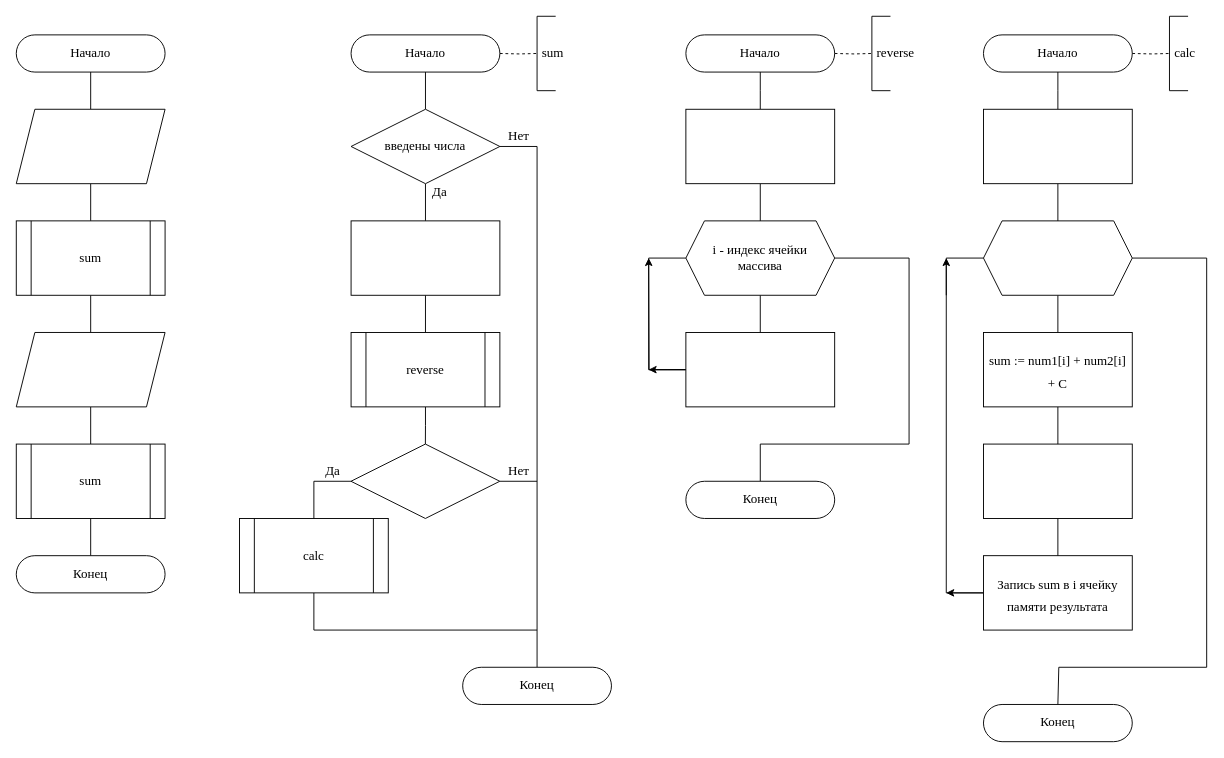
Some shapes in this 1224 by 758 pixel diagram are drawn without their labels. The shapes that lost their labels are listed below. From the top down, each one's centre as x and y in pixels, then its label:
point (90, 146): Ввод первого числа с клавиатуры
point (760, 146): length - длина массива
point (1057, 146): length - длина массива num1 - первое число num2 - второе число С - перенос
point (425, 257): преобразование в упакованный формат и запись в пямять
point (1057, 257): i - индекс очередной ячейки массива
point (90, 369): Ввод второго числа с клавиатуры
point (760, 369): Поменять местами ячейки i и length - i
point (425, 480): Введено второе число
point (1057, 480): Выполнение десятичной коррекции в sum и сохранение переноса в C
